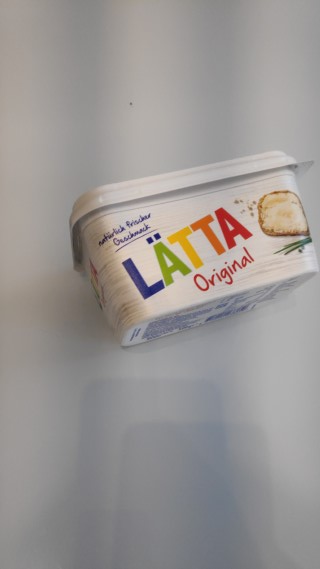laetta: (66, 149, 320, 349)
